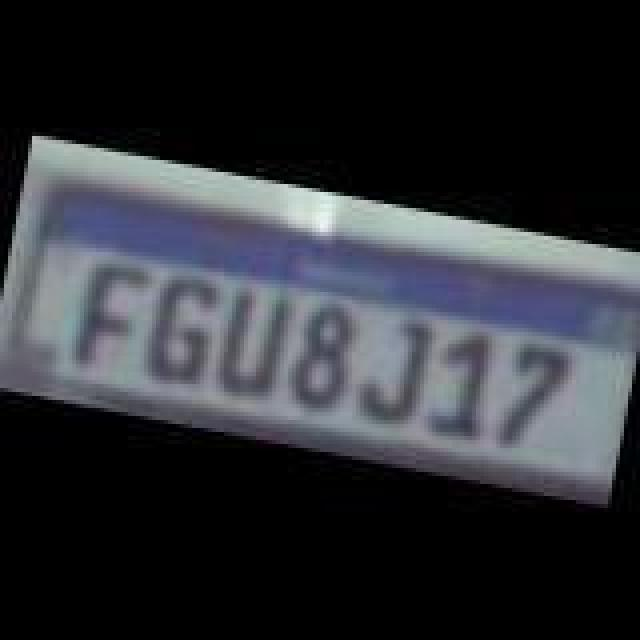1: (412, 318, 500, 450)
7: (486, 330, 570, 454)
8: (278, 288, 362, 416)
F: (64, 248, 152, 376)
G: (138, 266, 222, 390)
J: (348, 306, 436, 430)
U: (200, 276, 296, 412)
